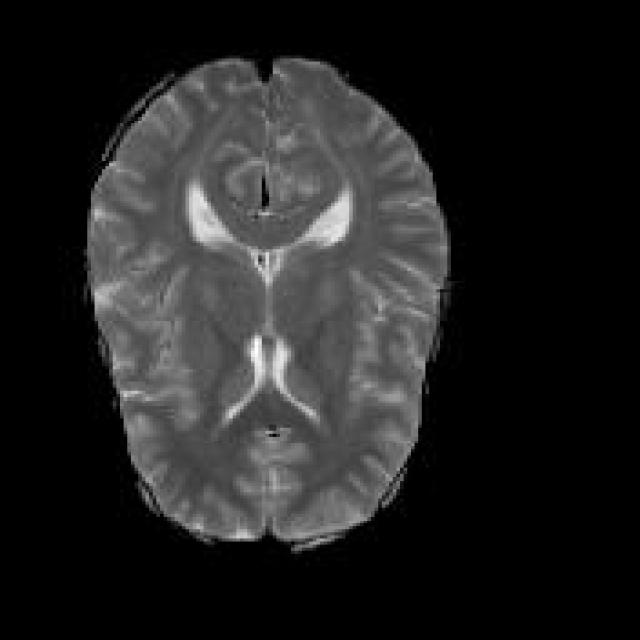CONTROL: (80, 49, 451, 551)
